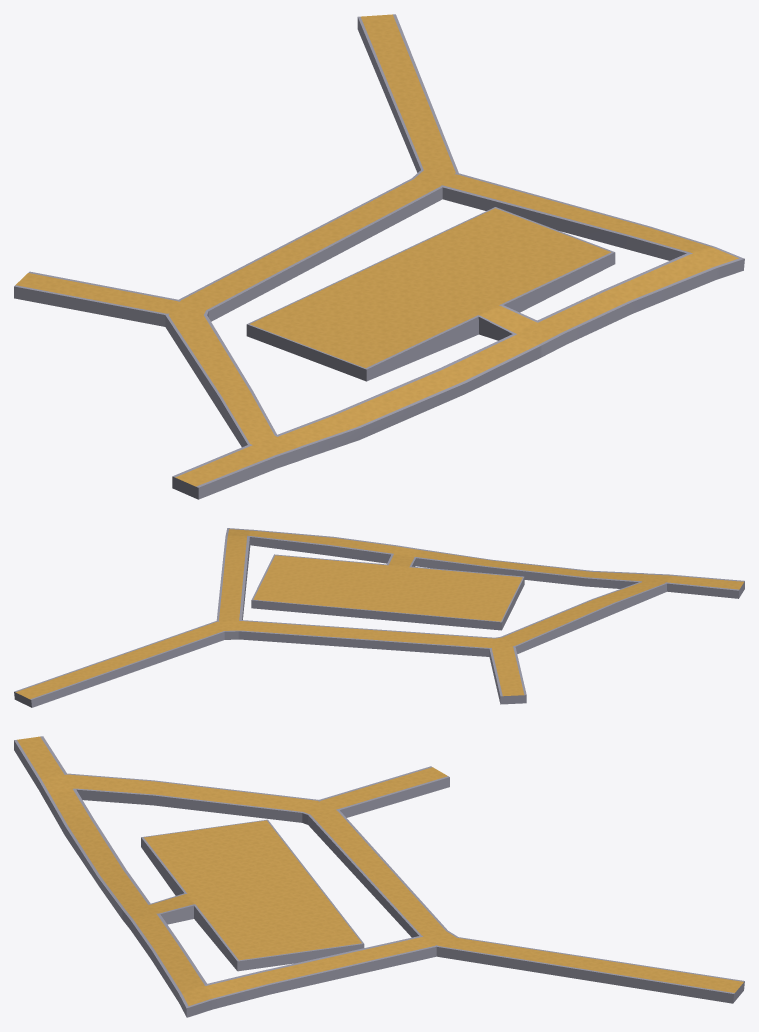
The model's file is Paths.fbx.
3 views of the same model, one above another, from view 1: azimuth 30°, elevation 25°; view 2: azimuth 150°, elevation 25°; view 3: azimuth 270°, elevation 25° (orthographic). The views are drawn at different scales.
Parts seen in each view (by area): view 1: Paths; view 2: Paths; view 3: Paths.
Boxes of the visible parts, x1,y1,x2,y2 form: Paths: [14, 14, 744, 499]; Paths: [14, 528, 744, 707]; Paths: [14, 736, 744, 1017].
Size of the model in its own units: 28999 by 1036 by 33557.
2 materials, 1 textured.
